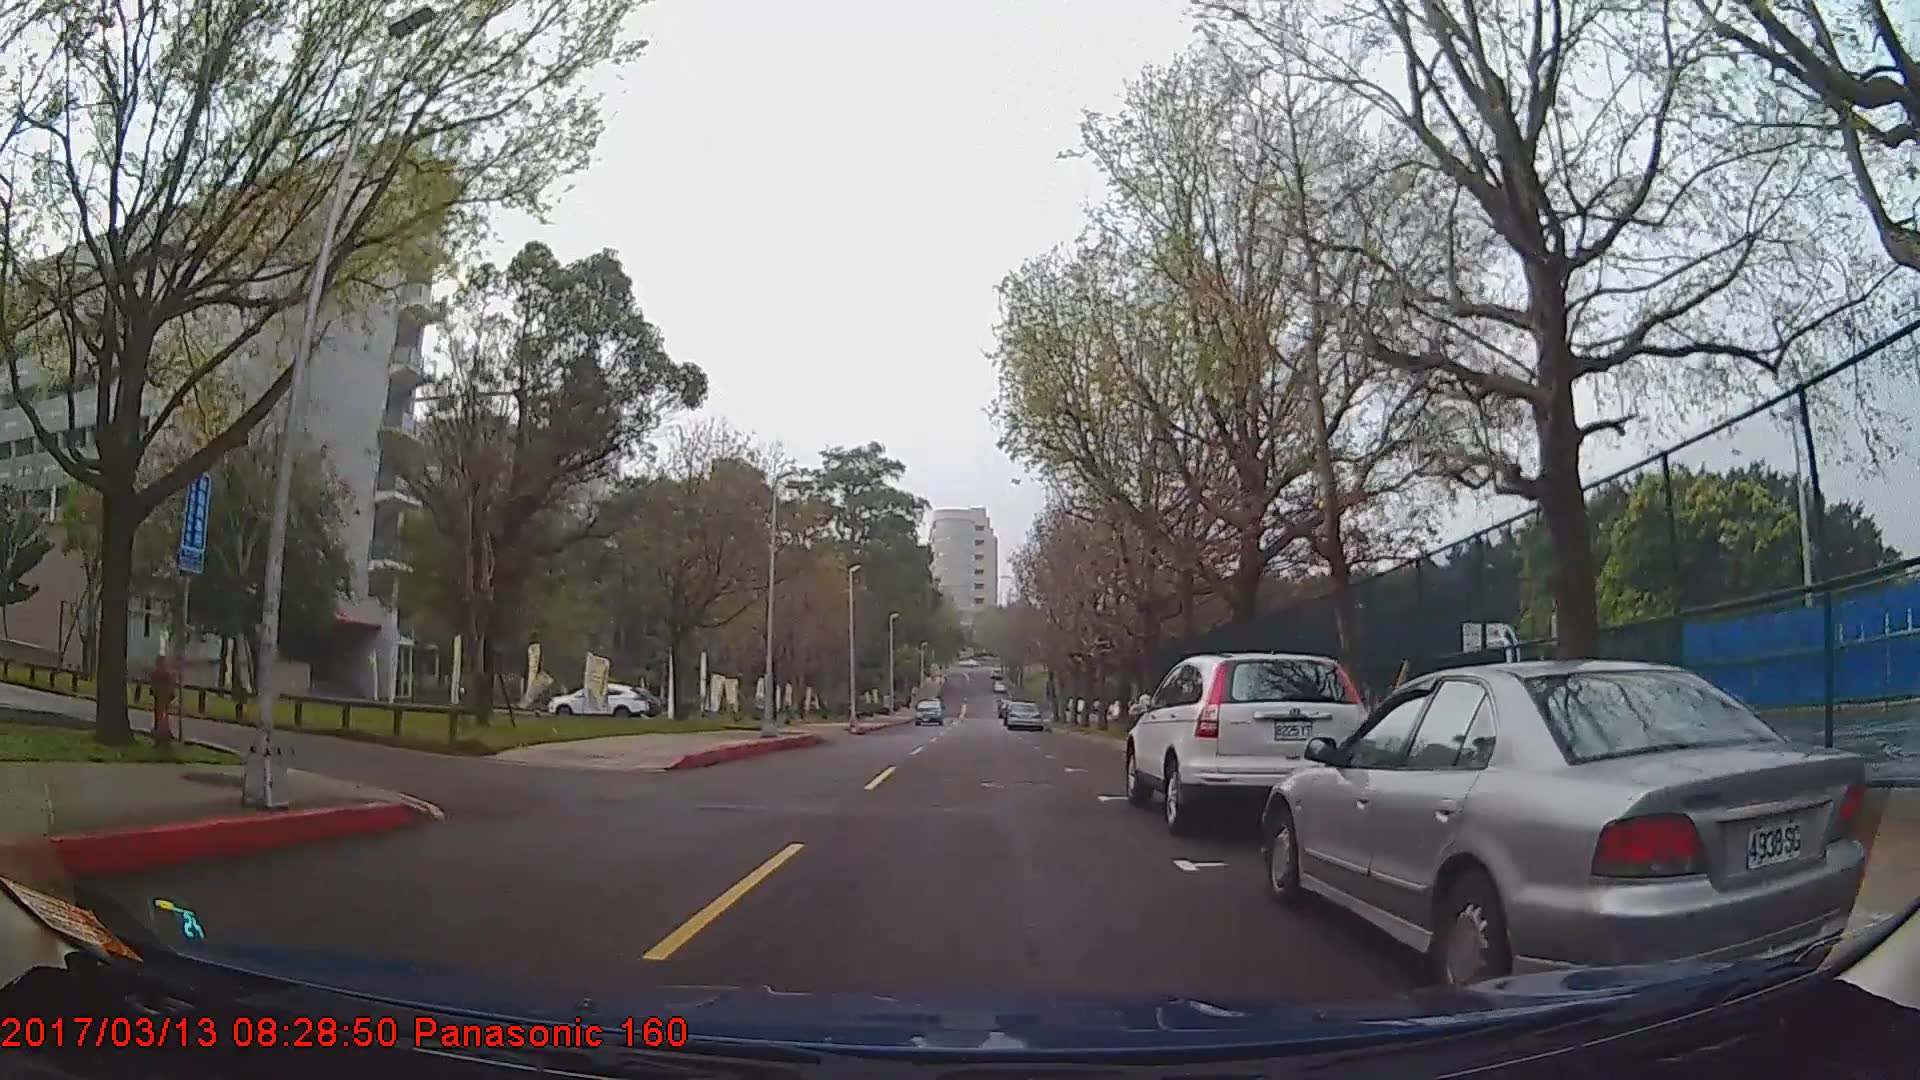vehicle: (1261, 658, 1869, 1005), (1124, 654, 1370, 833), (549, 679, 650, 717), (1004, 698, 1040, 731), (913, 694, 943, 724)
